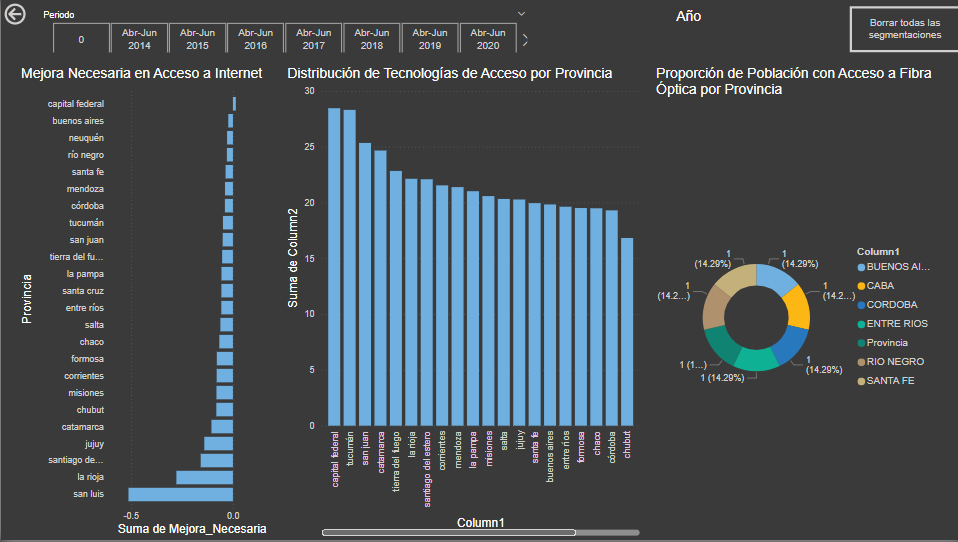

The page's visual inventory and layout, read from the dashboard file:
{"tool":"powerbi","page":{"name":"KPI´s","canvas":[1280,720],"ordinal":1},"visuals":[{"type":"clusteredBarChart","title":" Mejora Necesaria en Acceso a Internet","fields":{"Category":["kpi1.Provincia"],"Y":["Sum(kpi1.Mejora_Necesaria)"]},"box":[20.9,87.4,356.1,632.7],"z":0},{"type":"slicer","fields":{"Values":["Internet1.Periodo"]},"box":[43,9.1,667.9,61.3],"z":1000},{"type":"slicer","title":"Año","fields":{"Values":["Internet1.Año","Internet1.Año"]},"box":[701.8,11.7,430.5,58.7],"z":2000},{"type":"actionButton","box":[0,0,43.4,37.6],"z":3000},{"type":"actionButton","box":[1132.3,9.1,147.4,61.3],"z":4000},{"type":"lineStackedColumnComboChart","title":"Distribución de Tecnologías de Acceso por Provincia","fields":{"Category":["kpi2.Column1"],"Y":["Sum(kpi2.Column2)"]},"box":[377,87.4,480.1,632.7],"z":5000},{"type":"donutChart","title":"Proporción de Población con Acceso a Fibra Óptica por Provincia","fields":{"Category":["kpi3.Column1"],"Y":["CountNonNull(kpi3.Column2)"]},"box":[867.5,87.4,394,632.7],"z":6000}]}

Visuals, with their boxes in screenshot pixels (x1, y1, x2, y2), scaled from the page's 1280x720 canvas onto the 958x542 screenshot:
" Mejora Necesaria en Acceso a Internet" clusteredBarChart: select_region(16, 66, 282, 541)
slicer - Internet1.Periodo: select_region(32, 7, 532, 53)
"Año" slicer: select_region(525, 9, 847, 53)
actionButton: select_region(0, 0, 32, 28)
actionButton: select_region(847, 7, 957, 53)
"Distribución de Tecnologías de Acceso por Provincia" lineStackedColumnComboChart: select_region(282, 66, 641, 541)
"Proporción de Población con Acceso a Fibra Óptica por Provincia" donutChart: select_region(649, 66, 944, 541)
